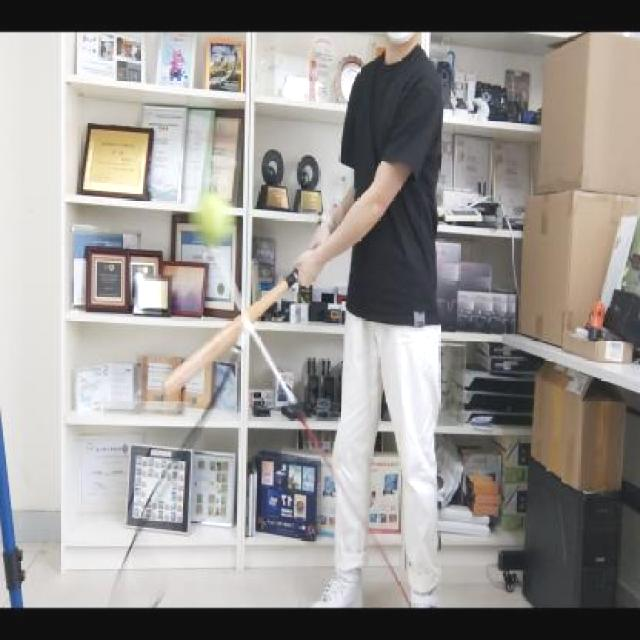bat: (164, 270, 298, 394)
